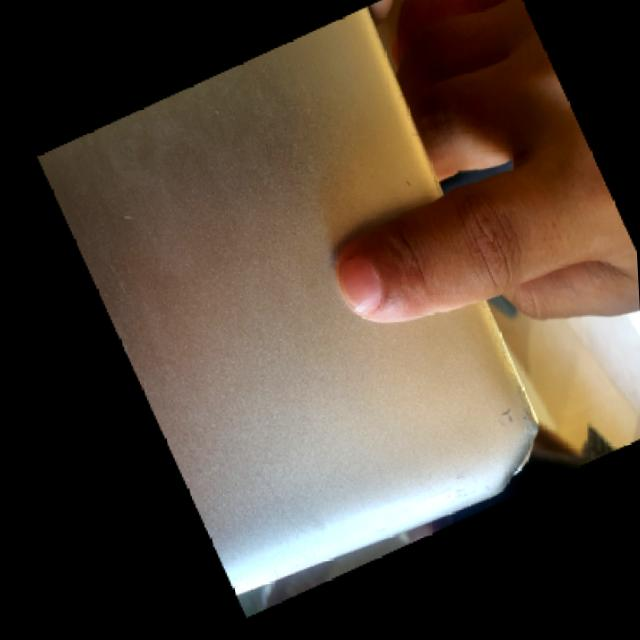Nail: (341, 257, 380, 312)
